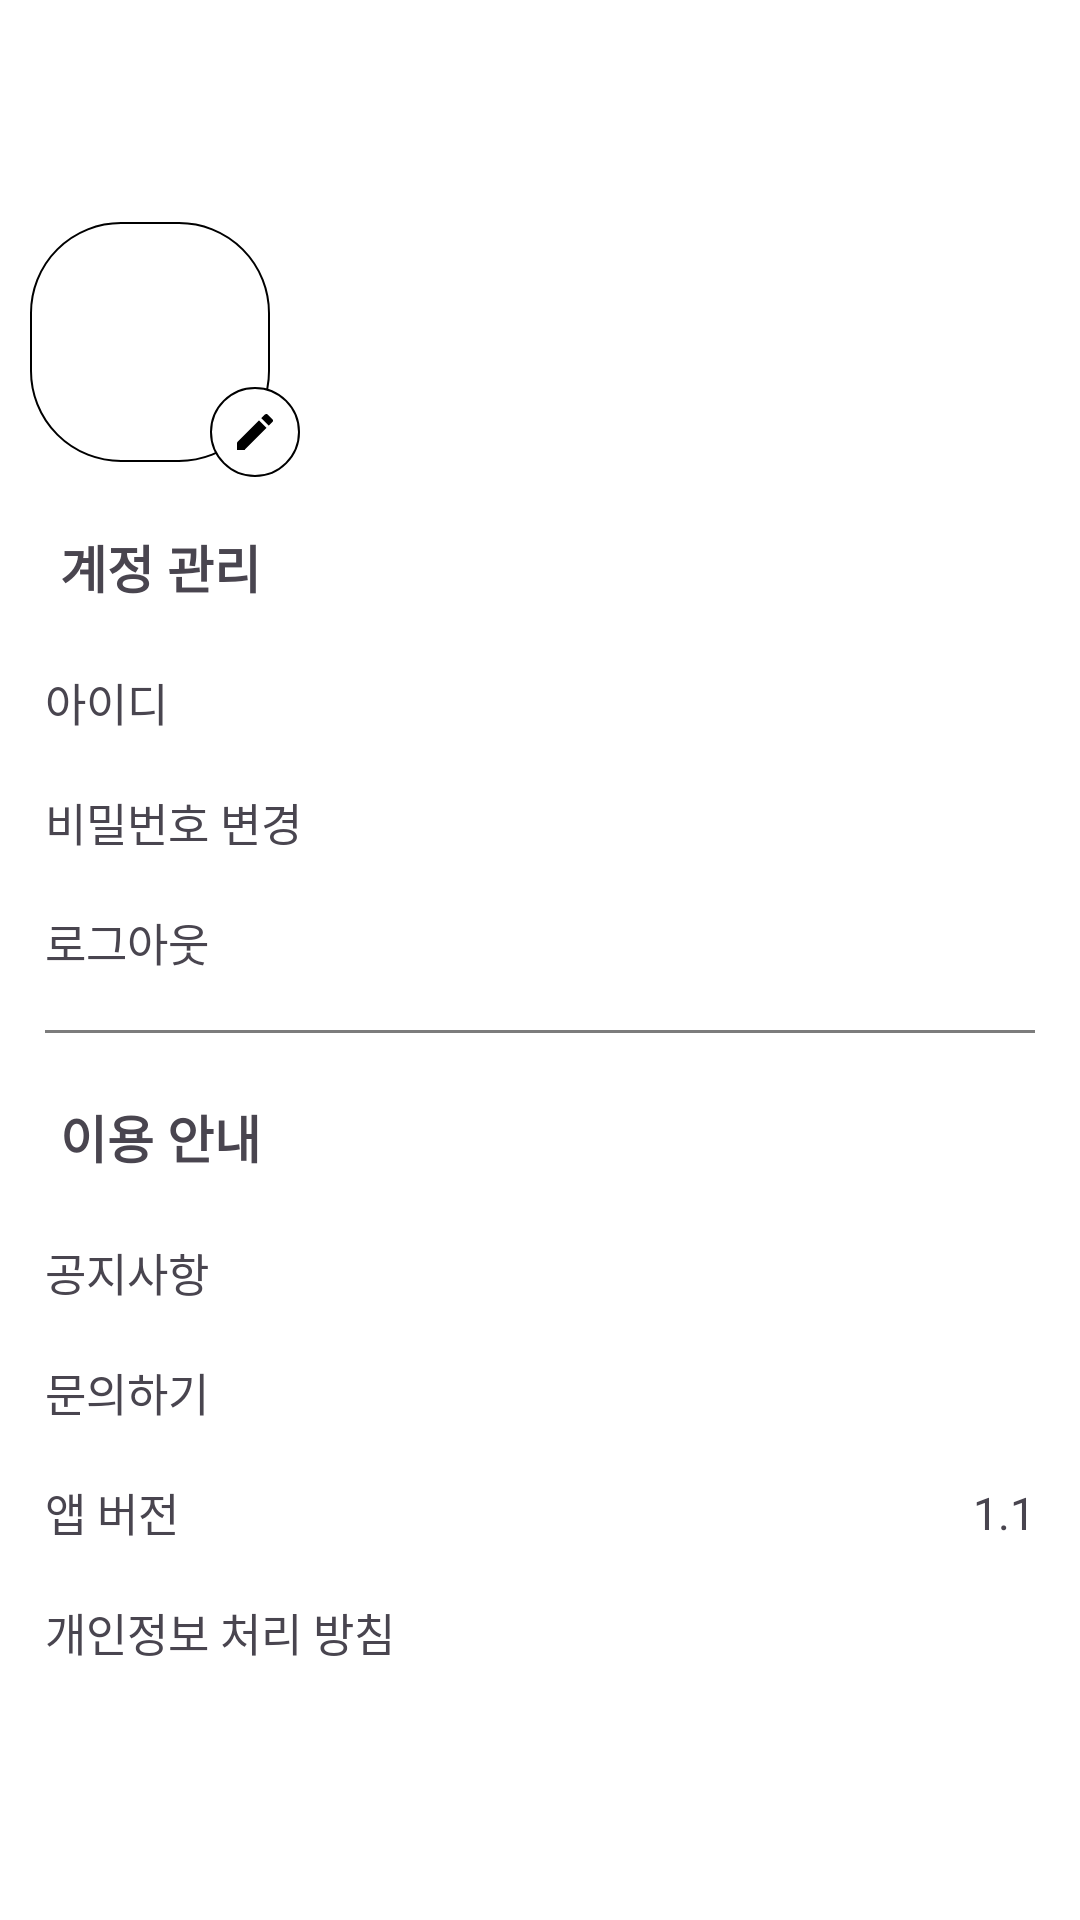

Point at icon controls on the screen. Image size 1080 × 1920, points as [x,y].
edit: [255,432]
